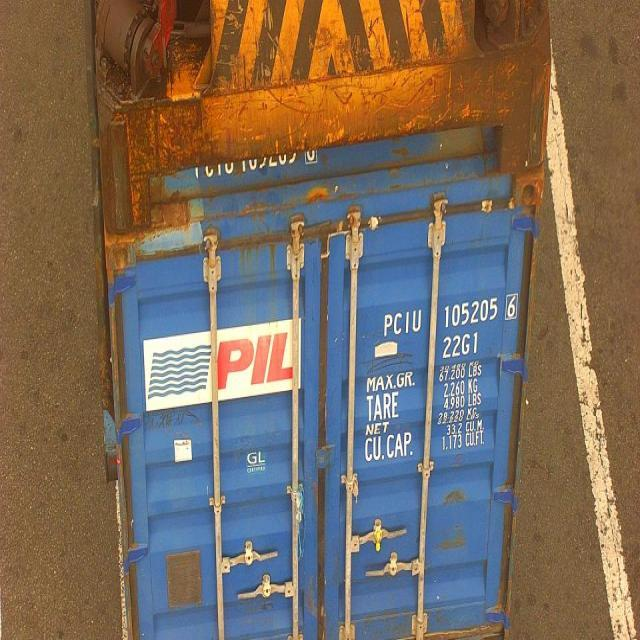ISO: (444, 334, 482, 356)
container_number: (381, 298, 516, 329)
